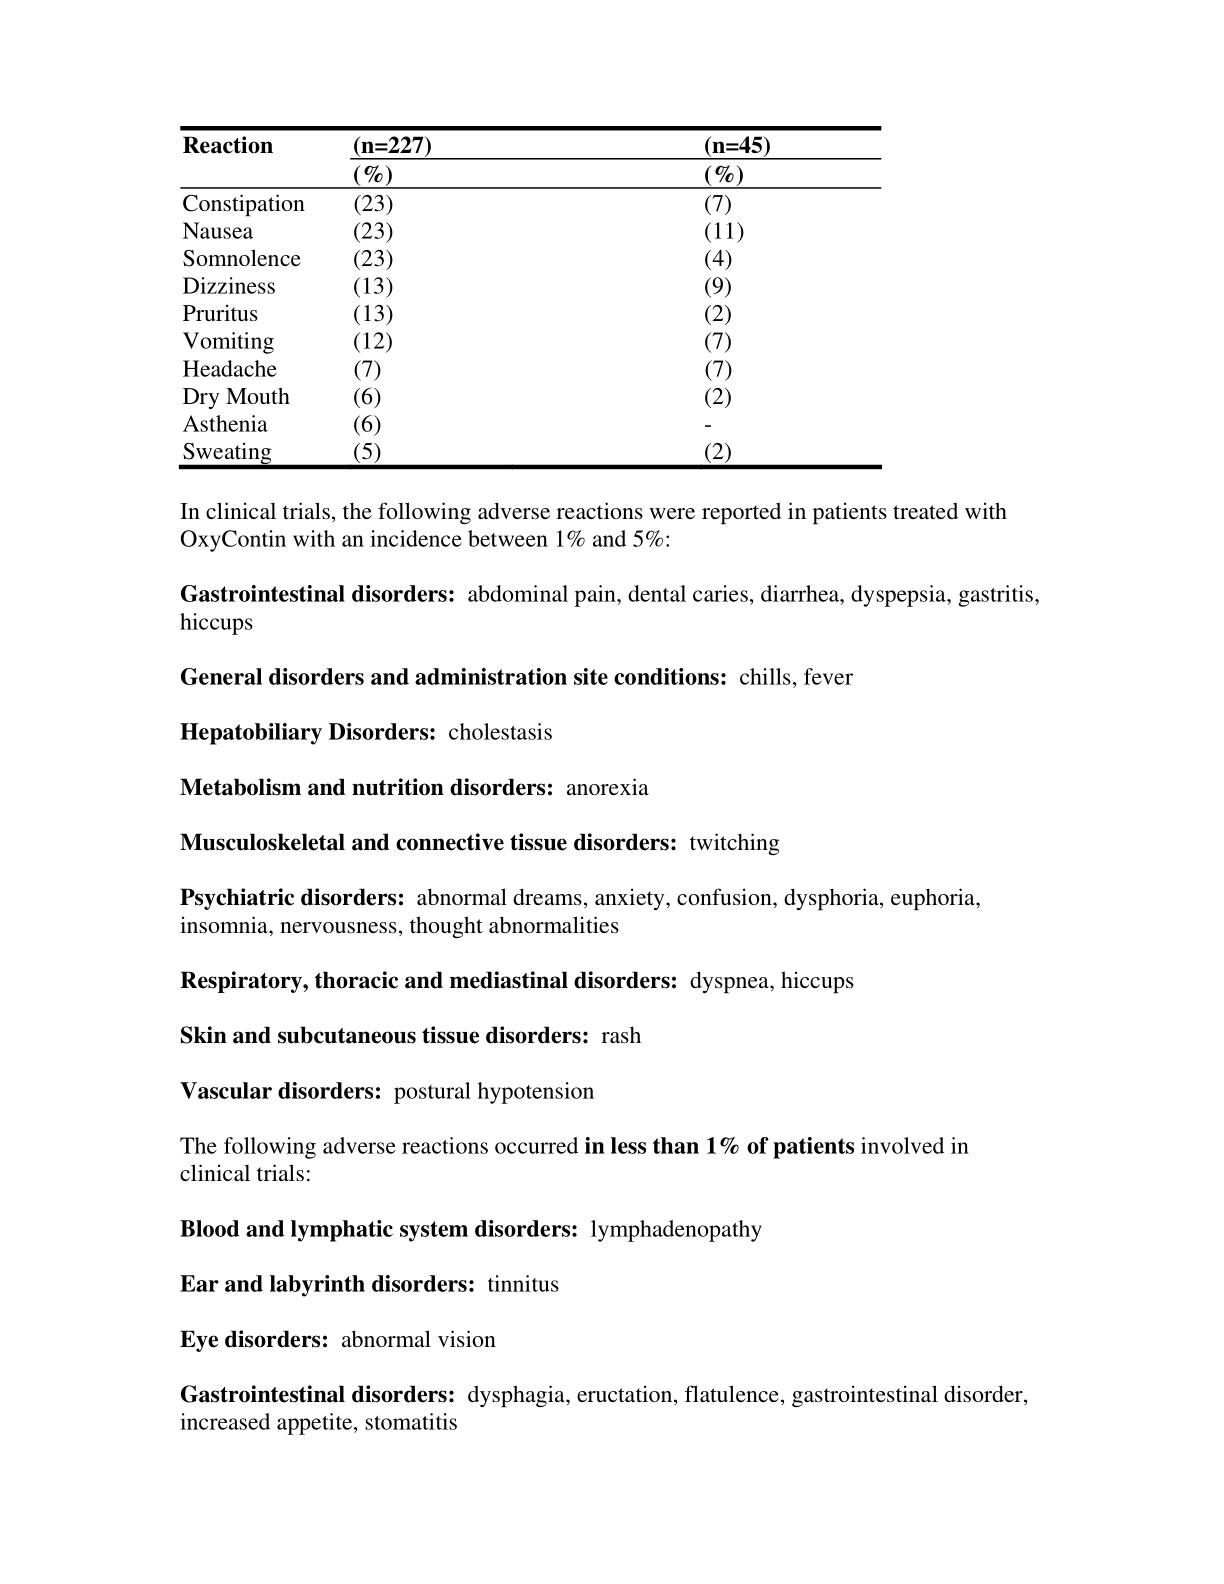partial_lined: (175, 122, 888, 477)
